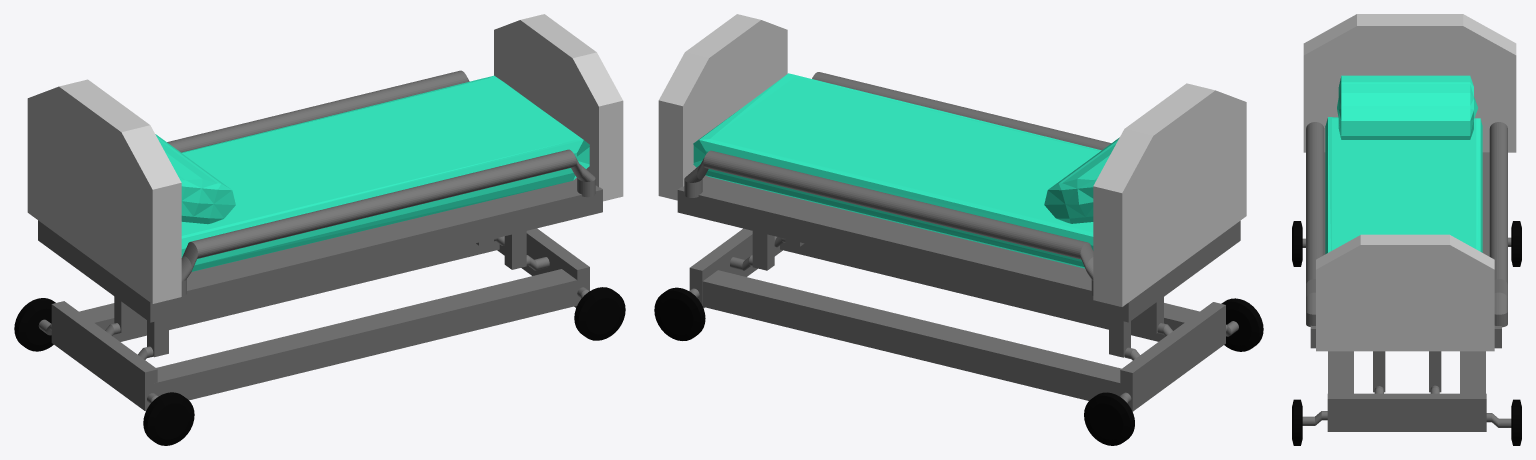
The model's file is hospital_bed.fbx.
The picture shows the model from 3 angles, left to right: view 1: azimuth 30°, elevation 25°; view 2: azimuth 150°, elevation 25°; view 3: azimuth 270°, elevation 25°; orthographic projection. The views are drawn at different scales.
Visible parts, largest first — view 1: hosp_bedding-material, wood_bed-material, Metal-material_16, Metal-material_6, wood_bed-material_1, Metal-material, Metal-material_7, Metal-material_18, Metal-material_17, hosp_bedding-material_1, Metal-material_20, wheel-material (+7 smaller); view 2: hosp_bedding-material, wood_bed-material, Metal-material_16, Metal-material_7, wood_bed-material_1, Metal-material, Metal-material_6, Metal-material_20, Metal-material_19, hosp_bedding-material_1, wheel-material_2, wheel-material_1 (+6 smaller); view 3: wood_bed-material_1, hosp_bedding-material, wood_bed-material, hosp_bedding-material_1, Metal-material_5, Metal-material_20, Metal-material_18, Metal-material_17, Metal-material_19, Metal-material_16, Metal-material_6, Metal-material_7 (+8 smaller).
Boxes of the visible parts, left/top/right/bottom form: hosp_bedding-material: left=181, top=75, right=589, bottom=271; wood_bed-material: left=27, top=79, right=181, bottom=303; Metal-material_16: left=38, top=177, right=602, bottom=322; Metal-material_6: left=154, top=269, right=577, bottom=400; wood_bed-material_1: left=494, top=14, right=623, bottom=201; Metal-material: left=51, top=301, right=157, bottom=410; Metal-material_7: left=79, top=241, right=499, bottom=341; Metal-material_18: left=380, top=149, right=595, bottom=212; Metal-material_17: left=181, top=195, right=387, bottom=296; hosp_bedding-material_1: left=155, top=134, right=235, bottom=224; Metal-material_20: left=272, top=70, right=469, bottom=128; wheel-material: left=143, top=392, right=194, bottom=445; hosp_bedding-material: left=693, top=73, right=1101, bottom=268; wood_bed-material: left=1093, top=83, right=1246, bottom=306; Metal-material_16: left=677, top=175, right=1240, bottom=322; Metal-material_7: left=702, top=270, right=1121, bottom=400; wood_bed-material_1: left=658, top=14, right=787, bottom=200; Metal-material: left=1120, top=302, right=1225, bottom=411; Metal-material_6: left=780, top=242, right=1199, bottom=341; Metal-material_20: left=684, top=150, right=899, bottom=213; Metal-material_19: left=892, top=196, right=1093, bottom=295; hosp_bedding-material_1: left=1044, top=137, right=1119, bottom=223; wheel-material_2: left=654, top=287, right=705, bottom=340; wheel-material_1: left=1084, top=392, right=1134, bottom=445; wood_bed-material_1: left=1316, top=234, right=1494, bottom=351; hosp_bedding-material: left=1325, top=117, right=1482, bottom=254; wood_bed-material: left=1303, top=14, right=1516, bottom=152; hosp_bedding-material_1: left=1337, top=75, right=1477, bottom=139; Metal-material_5: left=1327, top=393, right=1486, bottom=431; Metal-material_20: left=1489, top=200, right=1507, bottom=327; Metal-material_18: left=1306, top=200, right=1324, bottom=326; Metal-material_17: left=1306, top=122, right=1324, bottom=206; Metal-material_19: left=1489, top=122, right=1507, bottom=206; Metal-material_16: left=1310, top=152, right=1501, bottom=348; Metal-material_6: left=1328, top=351, right=1353, bottom=393; Metal-material_7: left=1460, top=351, right=1485, bottom=393.
Bounding box in the file's own units: 10.38 × 5.86 × 4.96.
